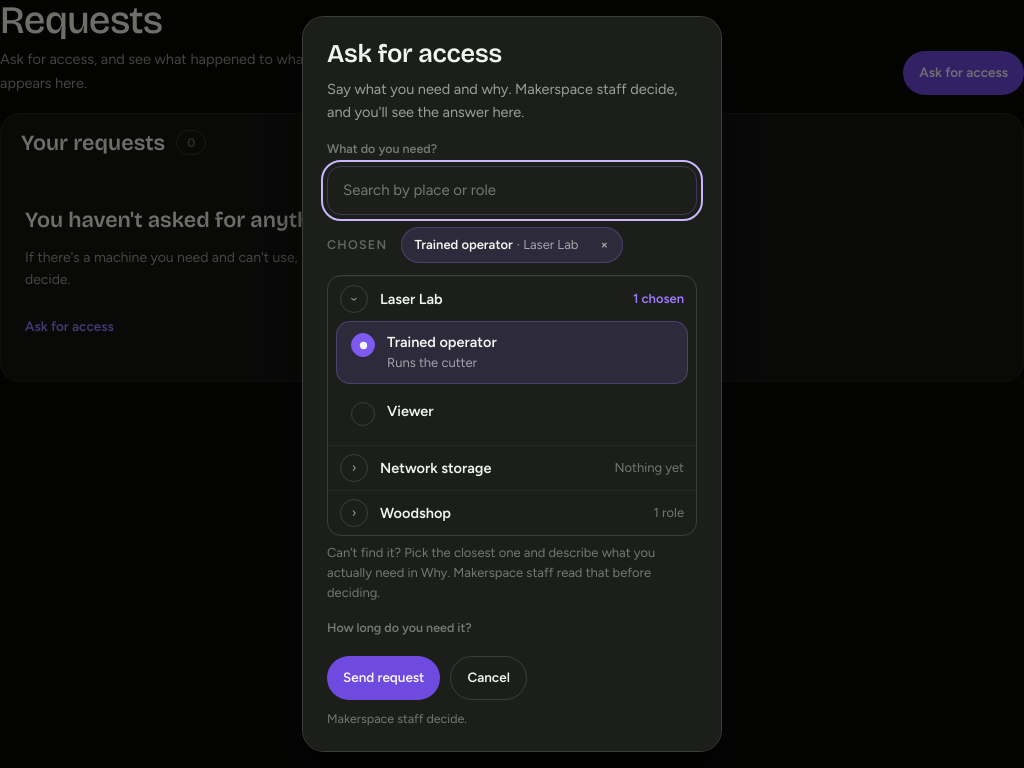
Ask for access · Until the end of term › ends where the term setting says
Click the button "Send request" at (384, 678), box left=327, top=656, right=440, bottom=700
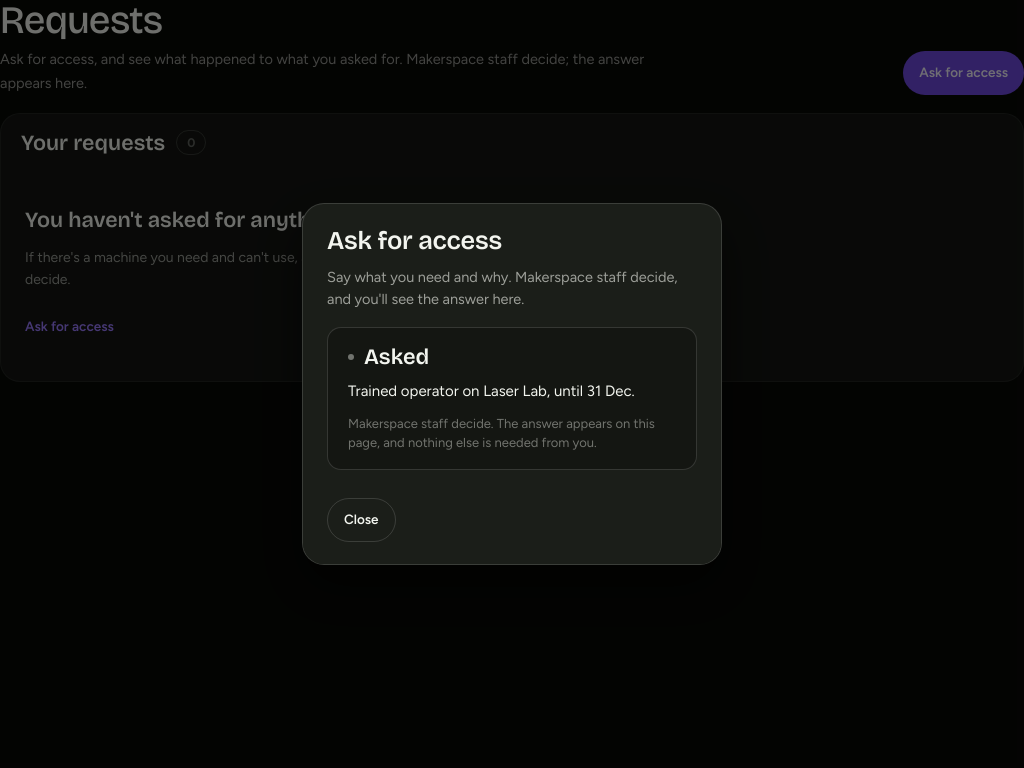
Expected: the dialog shows "until 31 Dec", left=348, top=382, right=635, bottom=400
Expected: the text "Asked" is shown, left=364, top=344, right=429, bottom=370
